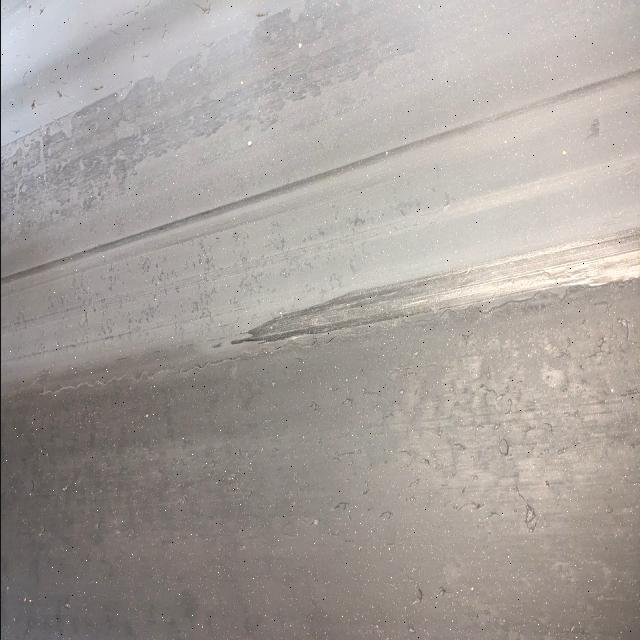Wear: (221, 221, 640, 354)
